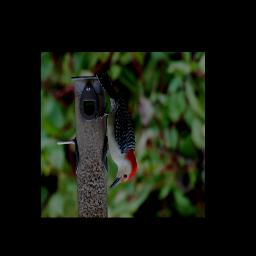Woodpecker: (94, 65, 138, 190)
